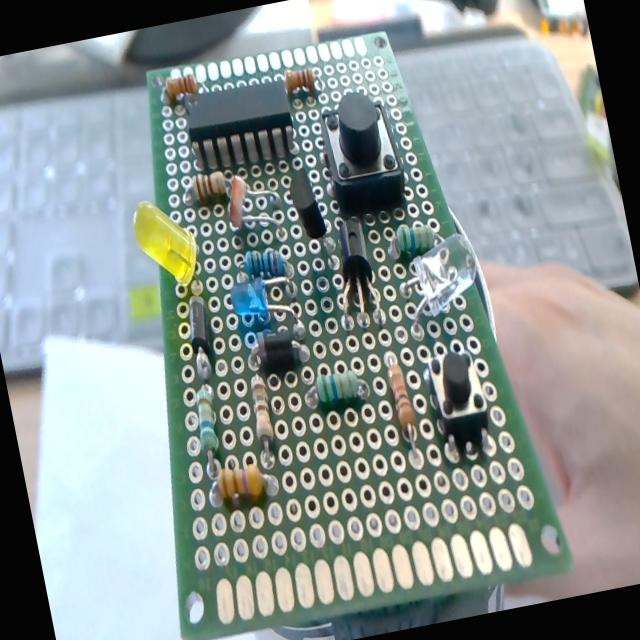IC: (176, 75, 300, 184)
cds: (221, 170, 296, 245)
diode: (178, 292, 226, 383), (238, 323, 314, 379)
led: (391, 228, 492, 337), (126, 187, 210, 308), (228, 272, 306, 340)
resistor: (376, 338, 430, 457), (198, 457, 287, 512), (185, 376, 232, 480), (293, 362, 377, 415), (238, 372, 283, 466), (379, 208, 449, 262), (232, 240, 298, 286), (174, 166, 240, 210), (151, 66, 215, 110), (278, 61, 329, 102)
switch: (310, 85, 418, 224), (417, 335, 502, 476)
transistor: (322, 216, 388, 336), (284, 160, 342, 278)
